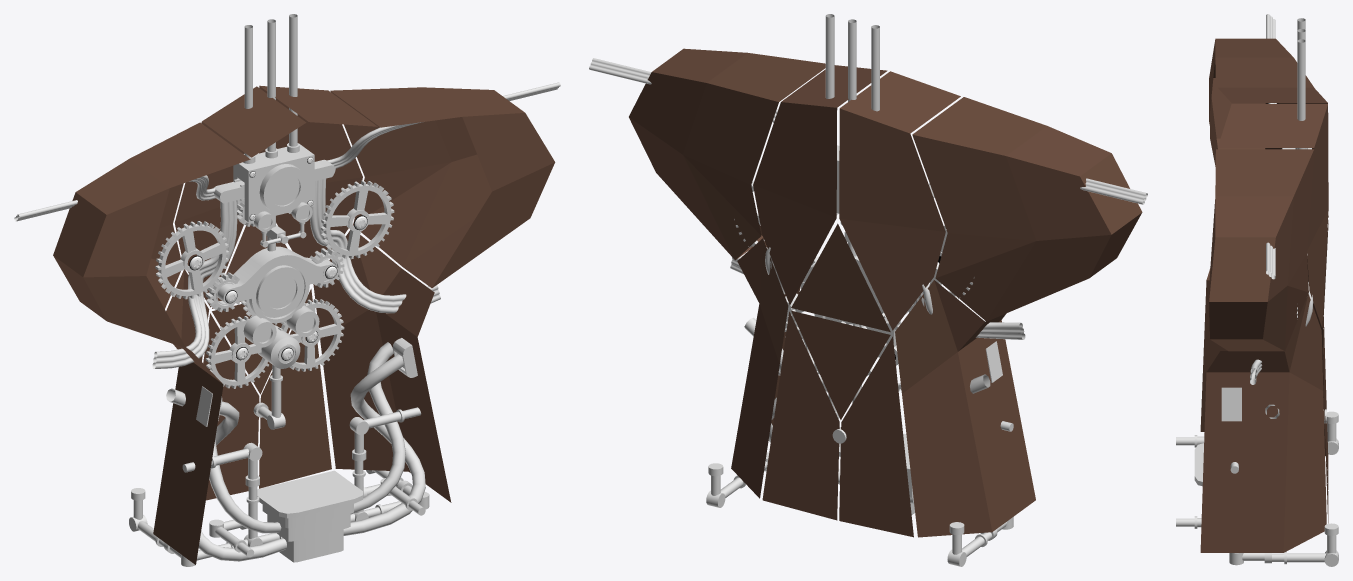
Rendered from MSH_LVLTorso_WBX.fbx.
3 renders of one model, left to right at view 1: azimuth 30°, elevation 25°; view 2: azimuth 150°, elevation 25°; view 3: azimuth 270°, elevation 25°, orthographic. The views are drawn at different scales.
Visible parts, largest first — view 1: WBX_BackPlates, NurbsPath.001, WBX_Neck Pipes.001, MainPlatform, NurbsPath, WBX_Neck Pipes.003, WBX_Pelvis Cluster, MSH_GearSmall_WBX.006|MSH_GearSmall_WBX|Dupli|.004, MSH_GearSmall_WBX.006|MSH_GearSmall_WBX|Dupli|.007, WBX_Chest Cluster, MSH_GearSmall_WBX.006|MSH_GearSmall_WBX|Dupli|.002, WBX_Simple Cluster.002|WBX_Simple Gauge|Dupli| (+7 smaller); view 2: WBX_BackPlates, NurbsPath.001, WBX_Neck Pipes.003, WBX_Neck Pipes.001; view 3: WBX_BackPlates, WBX_Neck Pipes.001, NurbsPath.001, WBX_Neck Pipes.003, CableConnector, MainPlatform.
Boxes of the visible parts, x1=… form: WBX_BackPlates: x1=53, y1=85, x2=555, y2=564; NurbsPath.001: x1=14, y1=82, x2=560, y2=533; WBX_Neck Pipes.001: x1=129, y1=407, x2=429, y2=566; MainPlatform: x1=257, y1=470, x2=362, y2=562; NurbsPath: x1=198, y1=354, x2=425, y2=561; WBX_Neck Pipes.003: x1=243, y1=14, x2=306, y2=429; WBX_Pelvis Cluster: x1=217, y1=246, x2=338, y2=323; MSH_GearSmall_WBX.006|MSH_GearSmall_WBX|Dupli|.004: x1=155, y1=221, x2=229, y2=299; MSH_GearSmall_WBX.006|MSH_GearSmall_WBX|Dupli|.007: x1=320, y1=180, x2=394, y2=259; WBX_Chest Cluster: x1=233, y1=144, x2=314, y2=222; MSH_GearSmall_WBX.006|MSH_GearSmall_WBX|Dupli|.002: x1=205, y1=316, x2=268, y2=388; WBX_Simple Cluster.002|WBX_Simple Gauge|Dupli|: x1=256, y1=265, x2=304, y2=317; WBX_BackPlates: x1=629, y1=48, x2=1142, y2=537; NurbsPath.001: x1=589, y1=58, x2=1147, y2=393; WBX_Neck Pipes.003: x1=825, y1=14, x2=879, y2=443; WBX_Neck Pipes.001: x1=706, y1=371, x2=1013, y2=566; WBX_BackPlates: x1=1200, y1=38, x2=1328, y2=552; WBX_Neck Pipes.001: x1=1176, y1=411, x2=1338, y2=566; NurbsPath.001: x1=1250, y1=14, x2=1313, y2=418; WBX_Neck Pipes.003: x1=1295, y1=18, x2=1326, y2=423; CableConnector: x1=1221, y1=387, x2=1241, y2=421; MainPlatform: x1=1194, y1=443, x2=1203, y2=486.
Size of the model in its own units: 18792 by 16630 by 5039.
